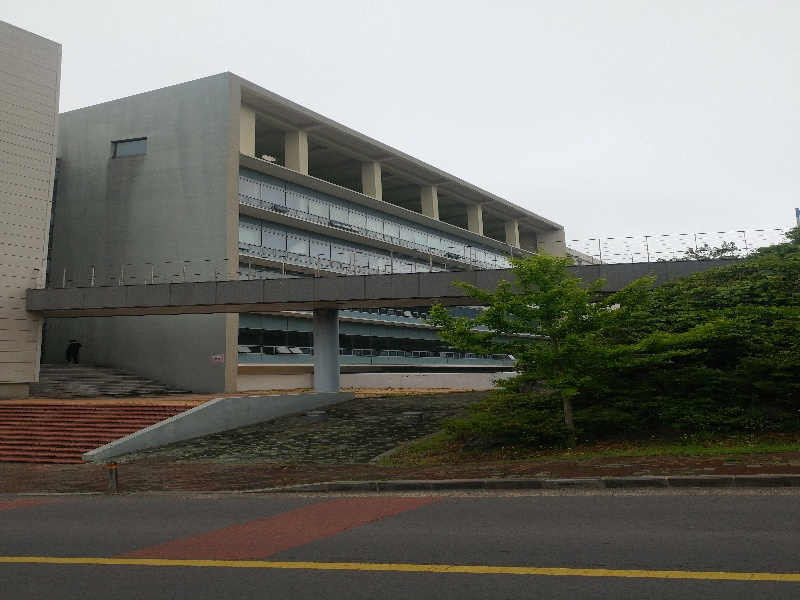Engineering College Building 4: (1, 37, 519, 460), (69, 96, 529, 388)
